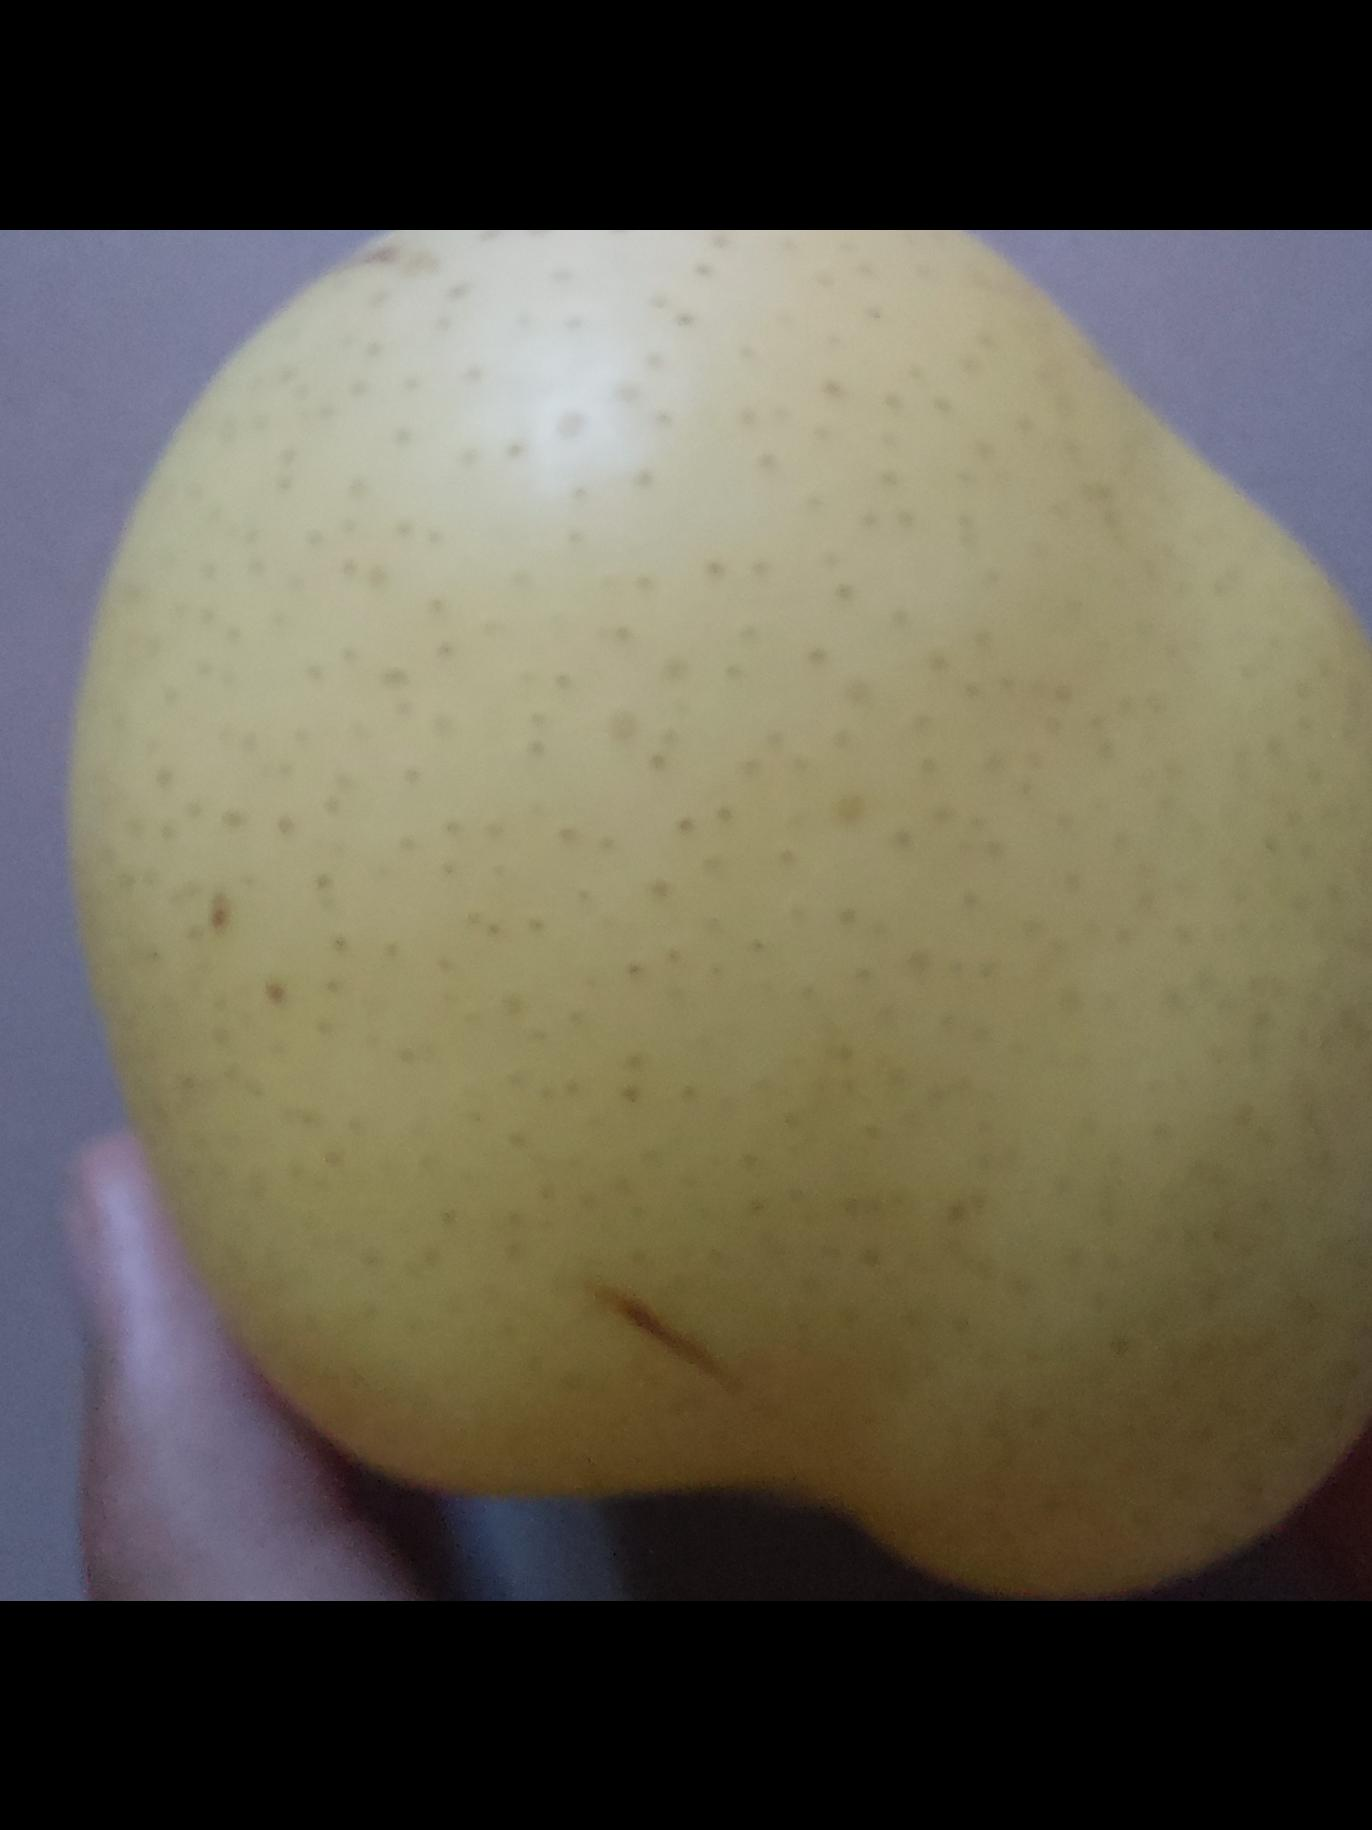Good Pear: (61, 229, 1372, 1595)
